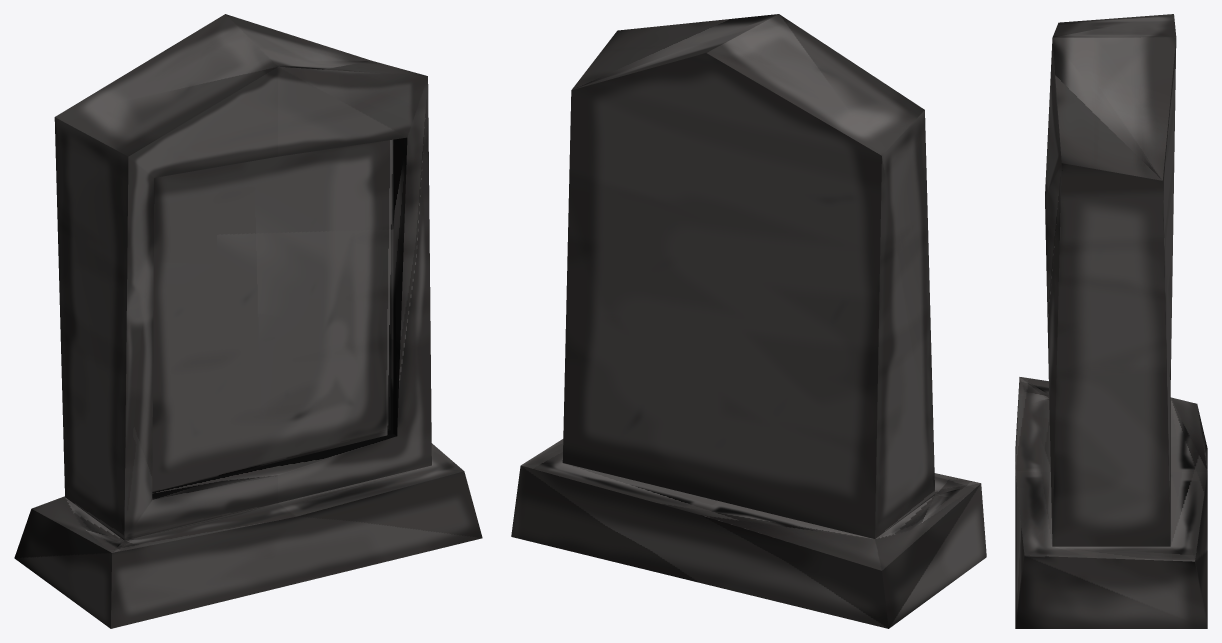
File: grave01.fbx
3 renders of one model, left to right at view 1: azimuth 30°, elevation 25°; view 2: azimuth 150°, elevation 25°; view 3: azimuth 270°, elevation 25°, orthographic.
Parts seen in each view (by area): view 1: Cube; view 2: Cube; view 3: Cube.
Boxes of the visible parts, x1,y1,x2,y2 form: Cube: (14,14,482,628); Cube: (511,14,986,628); Cube: (1015,14,1207,628).
Size of the model in its own units: 200 by 261 by 89.94.
